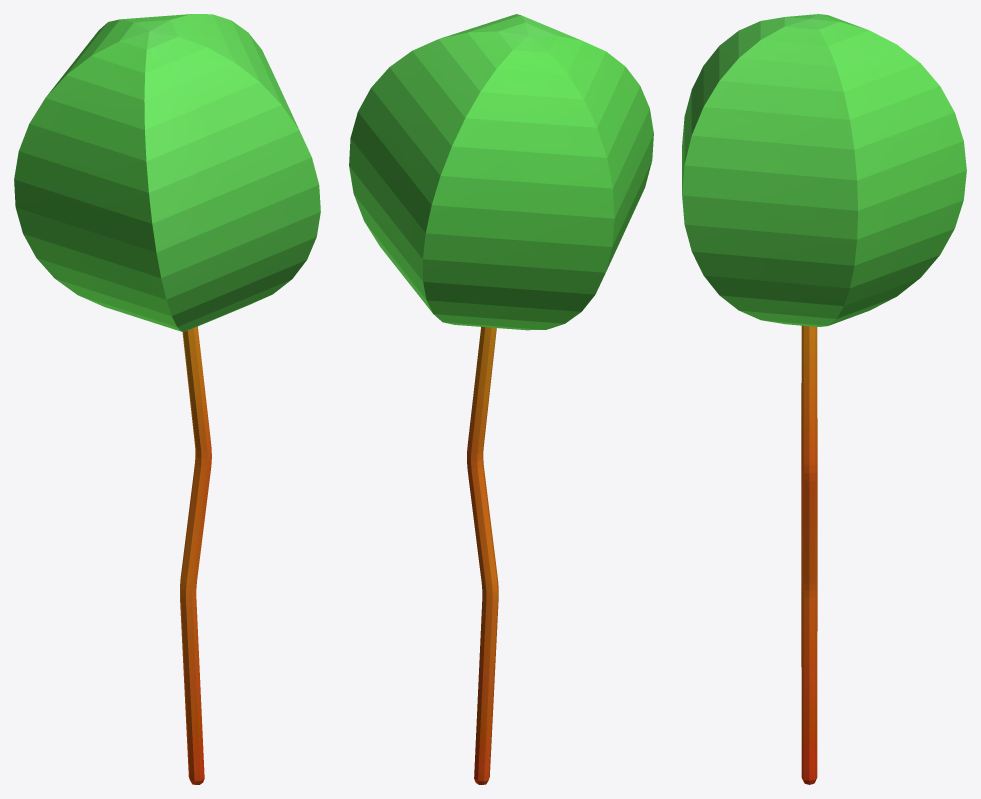
File: Tree_5.fbx
3 renders of one model, left to right at view 1: azimuth 30°, elevation 25°; view 2: azimuth 150°, elevation 25°; view 3: azimuth 270°, elevation 25°, orthographic. The views are drawn at different scales.
Visible parts, largest first — view 1: Tree_5; view 2: Tree_5; view 3: Tree_5.
Part boxes in pixels (x1,y1,x2,y2): Tree_5: [14, 14, 320, 784]; Tree_5: [349, 14, 653, 784]; Tree_5: [682, 14, 966, 784].
Size of the model in its own units: 167 by 459 by 159.
Materials: 1 (1 with a texture image).
